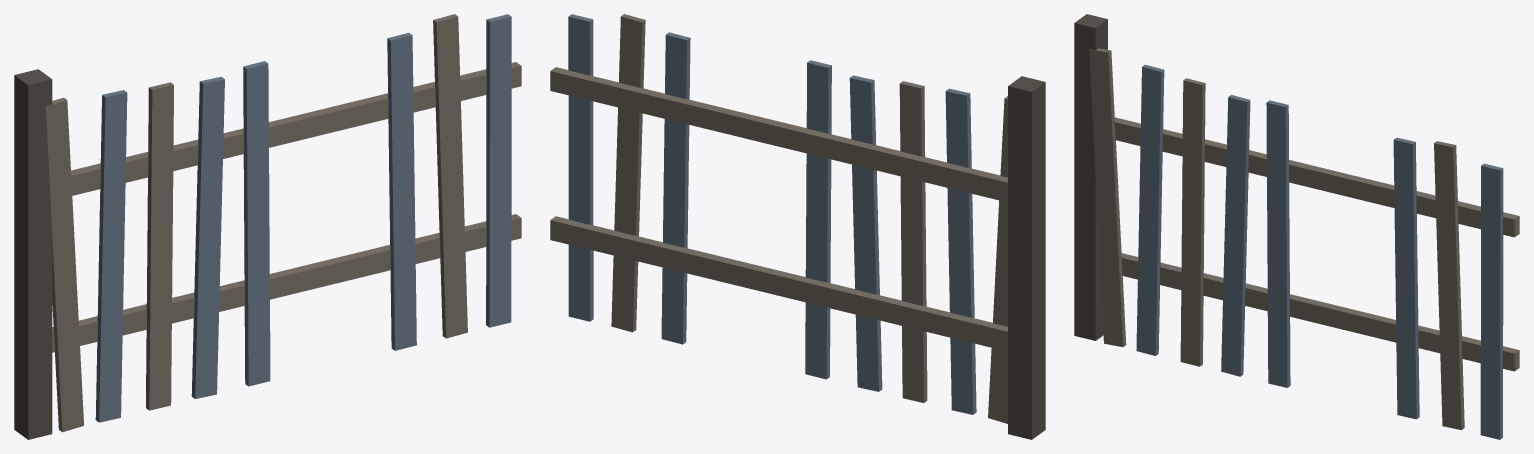
File: fence_wood_2.glb
3 views of the same model, side by side, from view 1: azimuth 30°, elevation 25°; view 2: azimuth 150°, elevation 25°; view 3: azimuth 330°, elevation 25° (orthographic). The views are drawn at different scales.
Visible parts, largest first — view 1: FenceWood; view 2: FenceWood; view 3: FenceWood.
Boxes of the visible parts, box(x1,y1,x2,y2) form: FenceWood: box(14, 14, 521, 439); FenceWood: box(550, 14, 1045, 439); FenceWood: box(1074, 14, 1519, 439).
Size of the model in its own units: 2.05 by 1.4 by 0.1025.
